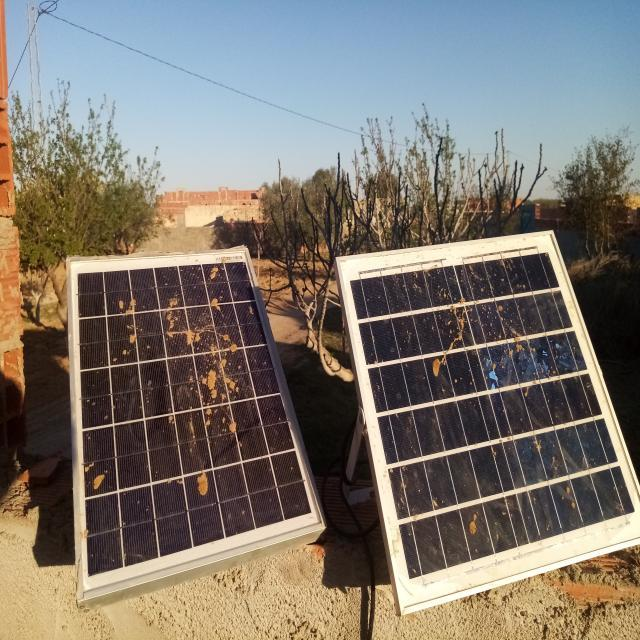faulty: (338, 234, 640, 609), (71, 256, 324, 599)
